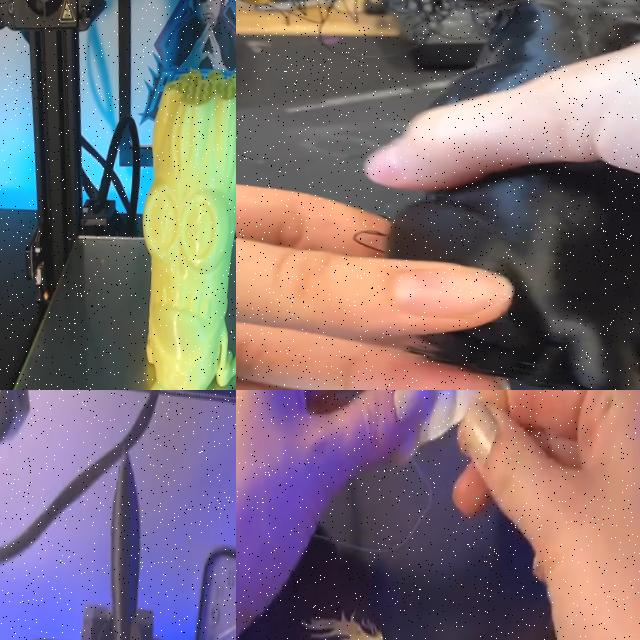spaghetti: (236, 0, 491, 43)
